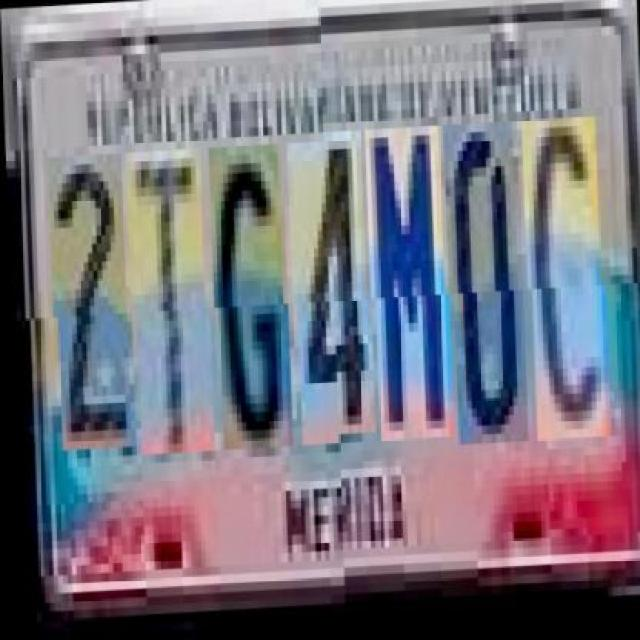0: (447, 136, 525, 459)
2: (52, 154, 133, 451)
4: (291, 144, 372, 448)
c: (524, 132, 608, 456)
g: (212, 148, 290, 452)
m: (368, 140, 450, 454)
t: (128, 152, 212, 456)
